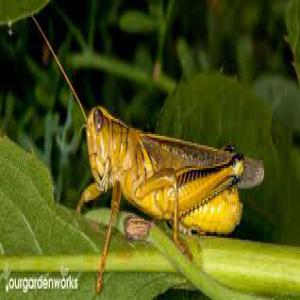locust: (66, 71, 263, 254)
